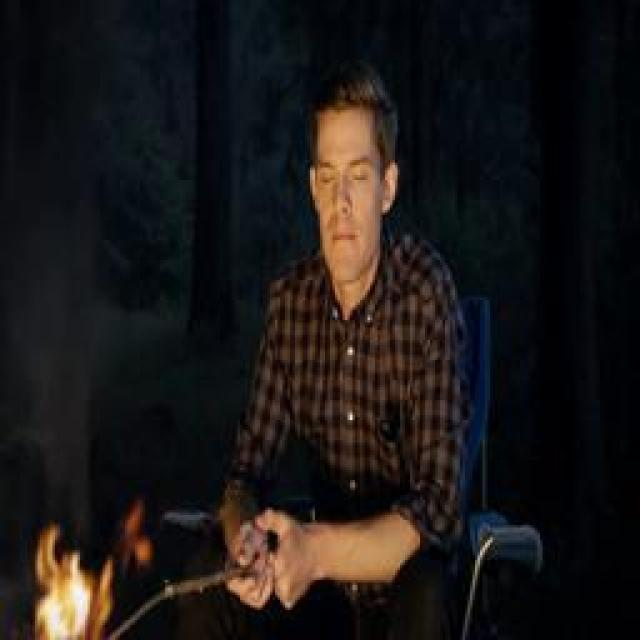Fire: (32, 530, 116, 640)
